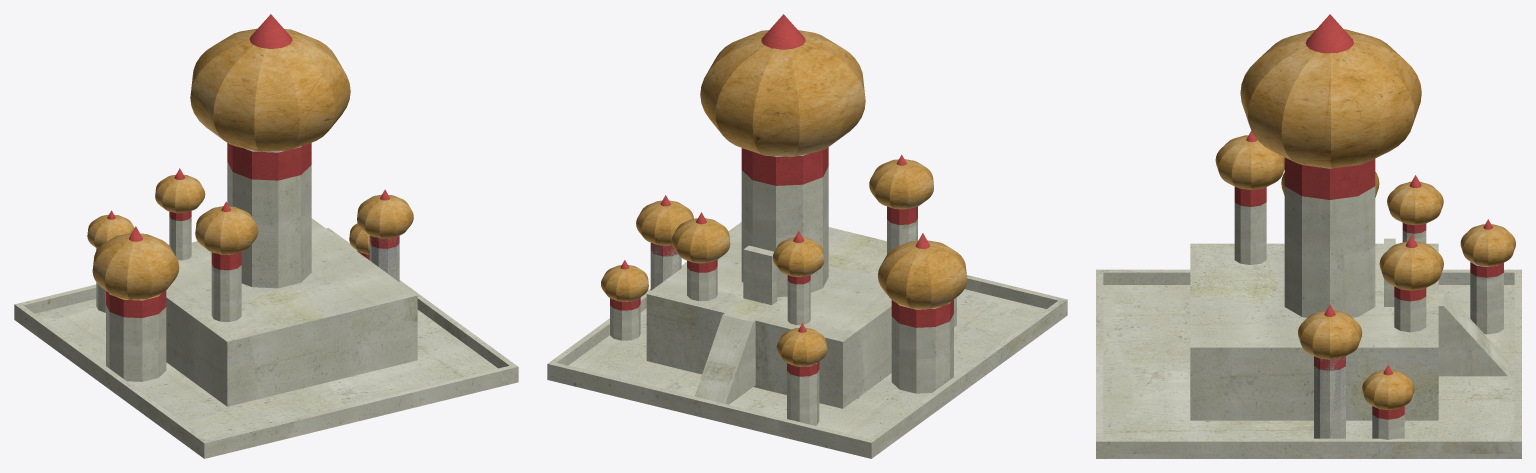
File: MyUnityPalace.fbx
The picture shows the model from 3 angles, left to right: view 1: azimuth 30°, elevation 25°; view 2: azimuth 150°, elevation 25°; view 3: azimuth 270°, elevation 25°; orthographic projection. The views are drawn at different scales.
Parts seen in each view (by area): view 1: pSphere17; view 2: pSphere17; view 3: pSphere17.
Boxes of the visible parts, <box> form: pSphere17: <box>14,14,518,458</box>; pSphere17: <box>547,14,1067,458</box>; pSphere17: <box>1096,14,1521,458</box>.
Bounding box in the file's own units: 18.43 × 18.01 × 18.96.
